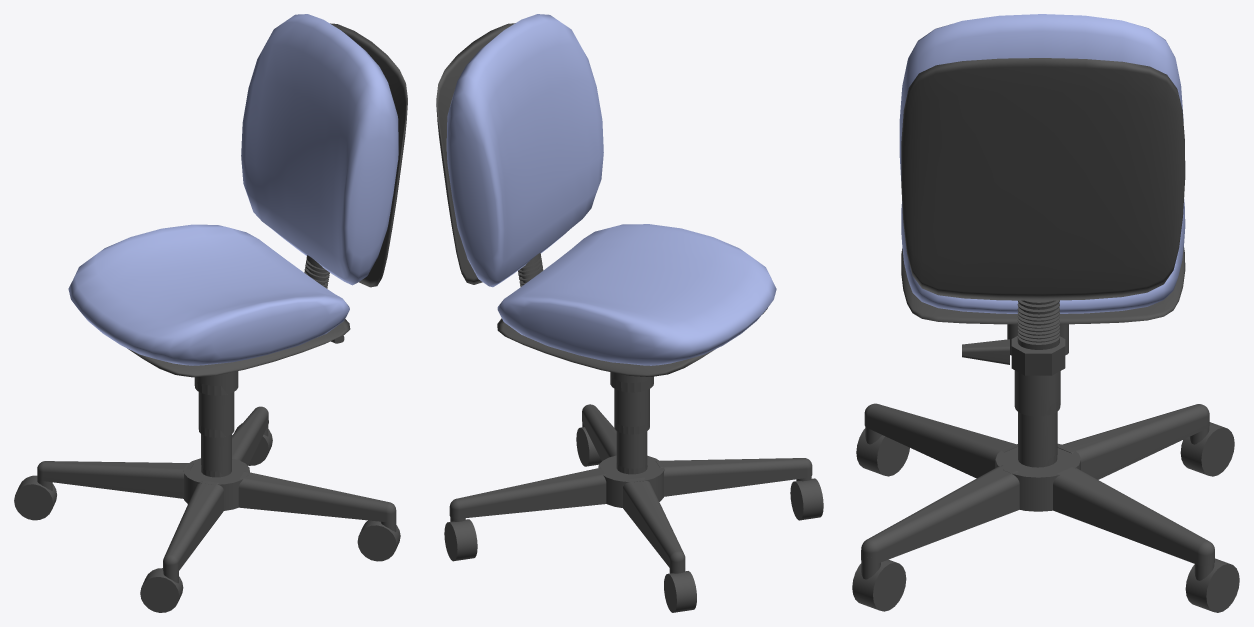
File: OfficeChair.fbx
The picture shows the model from 3 angles, left to right: view 1: azimuth 30°, elevation 25°; view 2: azimuth 150°, elevation 25°; view 3: azimuth 270°, elevation 25°; orthographic projection. The views are drawn at different scales.
Parts seen in each view (by area): view 1: pCube2, pCube1, pCube16, pCube17, pCube3; view 2: pCube2, pCube1, pCube16, pCube17, pCube3; view 3: pCube17, pCube16, pCube2, pCube1, pCube3, pCylinder1.
Boxes of the visible parts, x1,y1,x2,y2 form: pCube2: [241, 14, 398, 285]; pCube1: [68, 224, 349, 365]; pCube16: [14, 335, 400, 612]; pCube17: [330, 23, 407, 287]; pCube3: [127, 319, 350, 377]; pCube2: [446, 14, 603, 287]; pCube1: [497, 224, 776, 365]; pCube16: [444, 372, 823, 612]; pCube17: [436, 23, 515, 284]; pCube3: [497, 308, 767, 376]; pCube17: [901, 58, 1185, 300]; pCube16: [852, 324, 1239, 612]; pCube2: [899, 14, 1183, 180]; pCube1: [901, 199, 1185, 313]; pCube3: [901, 247, 1185, 324]; pCylinder1: [1017, 300, 1059, 349].
Bounding box in the file's own units: 2.35 × 3.66 × 2.11.
